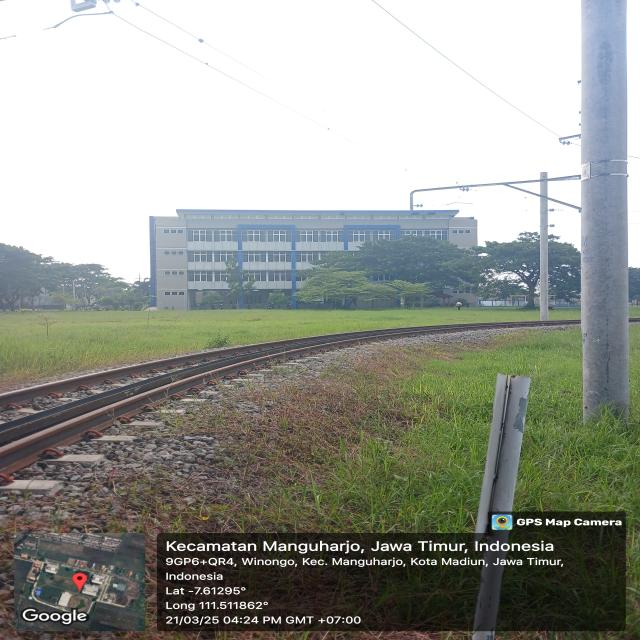rail-detection: (0, 321, 570, 479), (0, 371, 214, 470)
